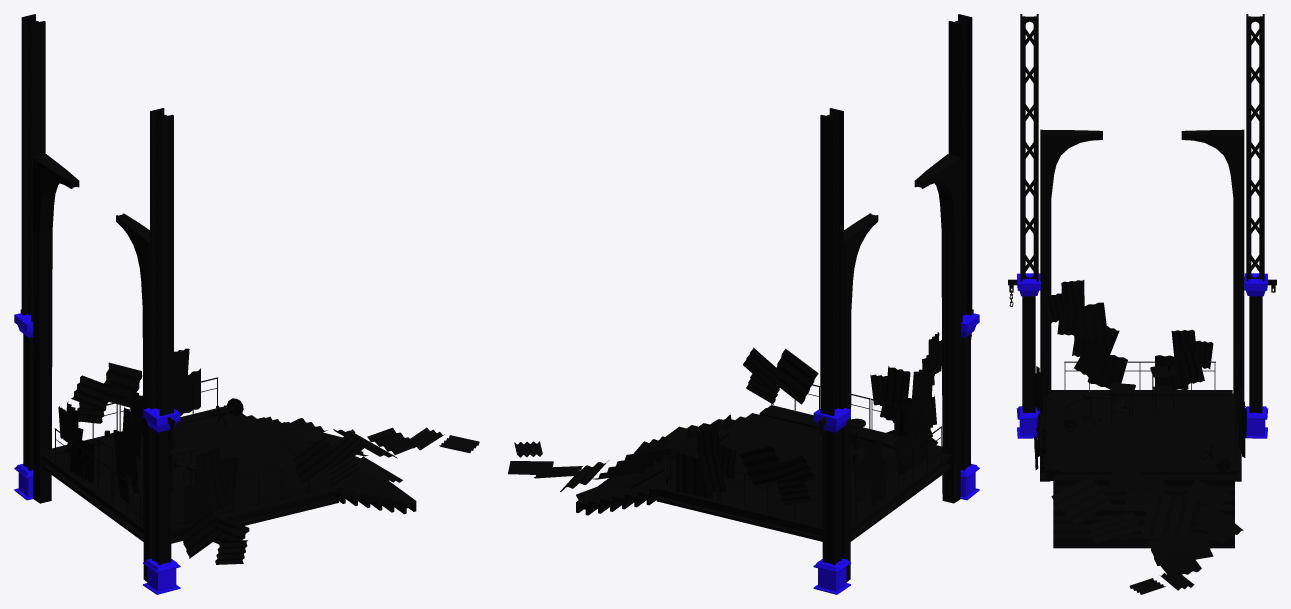
File: ART1_key_platform_deco.fbx
3 views of the same model, side by side, from view 1: azimuth 30°, elevation 25°; view 2: azimuth 150°, elevation 25°; view 3: azimuth 270°, elevation 25° (orthographic). The views are drawn at different scales.
Parts seen in each view (by area): view 1: key_platfrom_deco; view 2: key_platfrom_deco; view 3: key_platfrom_deco.
Part boxes in pixels (x1=…): key_platfrom_deco: x1=14, y1=14, x2=479, y2=594; key_platfrom_deco: x1=508, y1=14, x2=979, y2=594; key_platfrom_deco: x1=1008, y1=14, x2=1276, y2=594.
Size of the model in its own units: 745 by 854 by 499.
